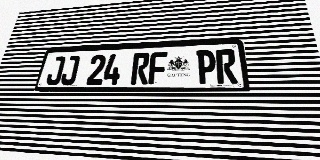2: (86, 54, 107, 85)
4: (102, 54, 122, 85)
F: (148, 52, 167, 84)
J: (59, 55, 80, 85), (45, 56, 66, 85)
P: (196, 50, 217, 84)
R: (215, 49, 238, 84), (130, 52, 150, 84)
